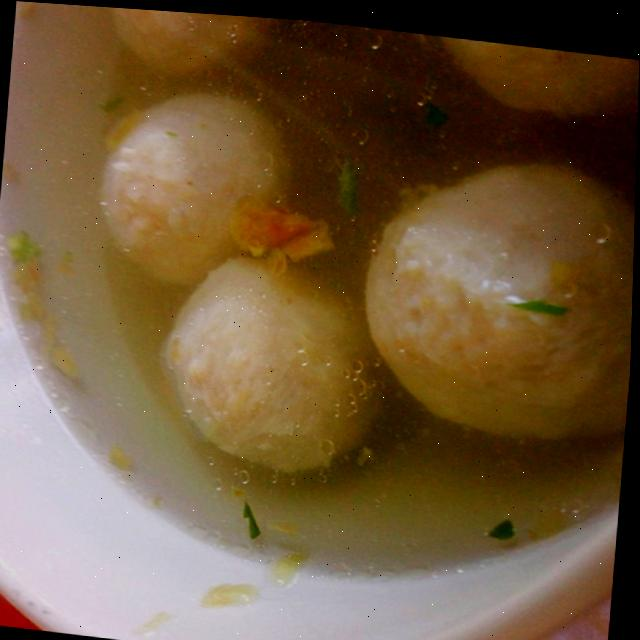熟制海鲜: (8, 1, 640, 583)
